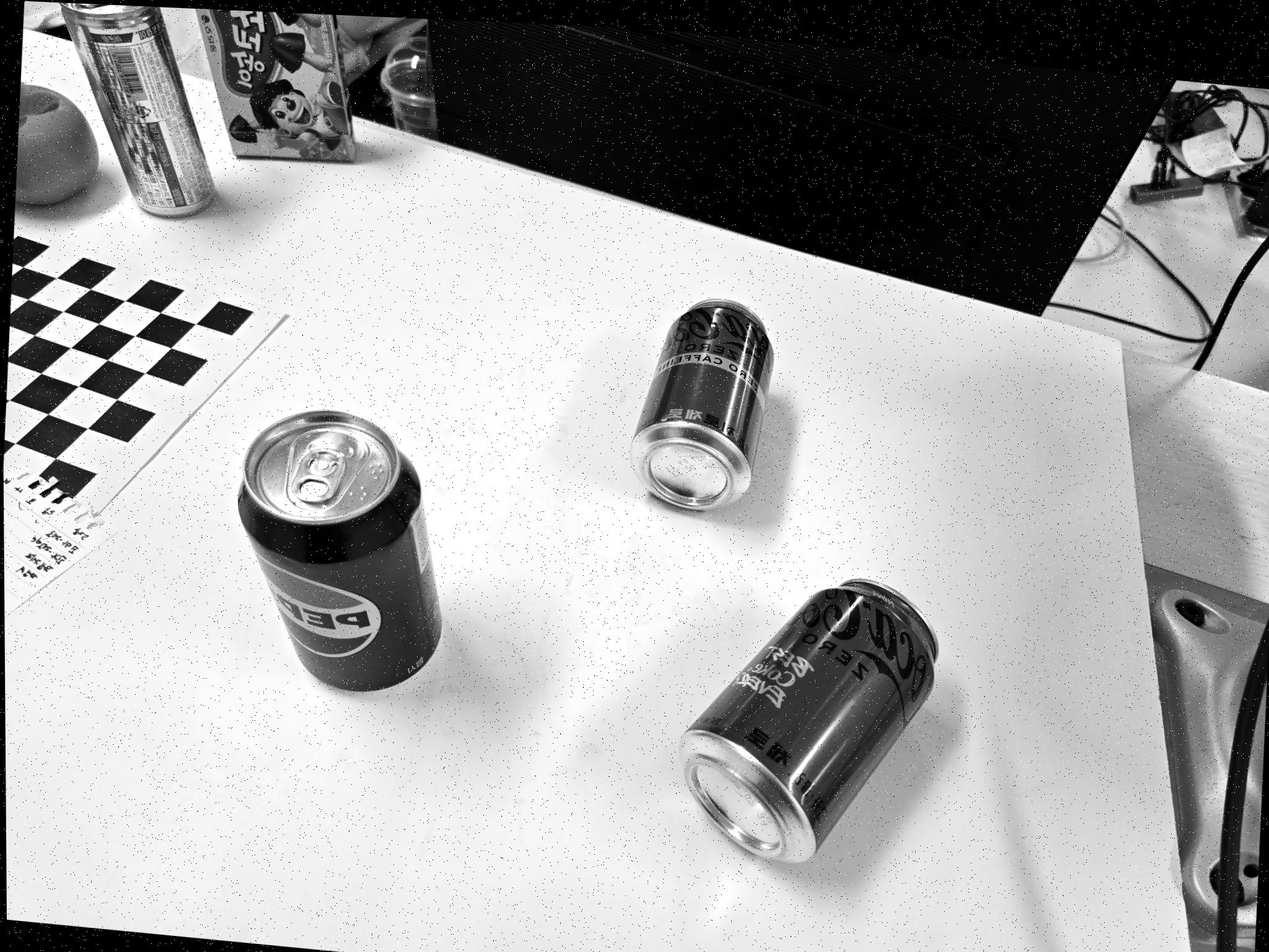can_coke_decaf: (631, 300, 773, 509)
can_coke_zero: (680, 579, 938, 862)
can_pepsi: (238, 410, 441, 691)
